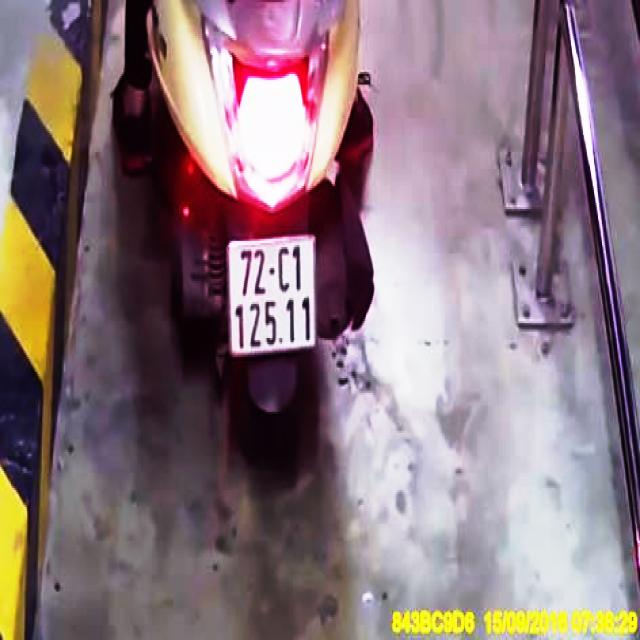license_plate: (231, 241, 317, 353)
